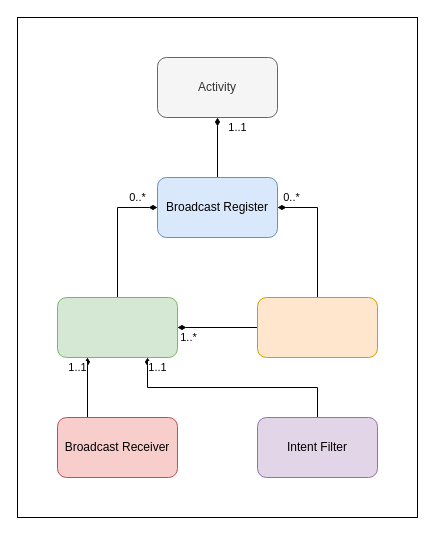
This 435x535 diagram has some shape labels left out. Each missing label, with the centre of its shape:
"Broadcast" goes at pixel 117 327.
"Broadcast Listener" goes at pixel 317 327.
